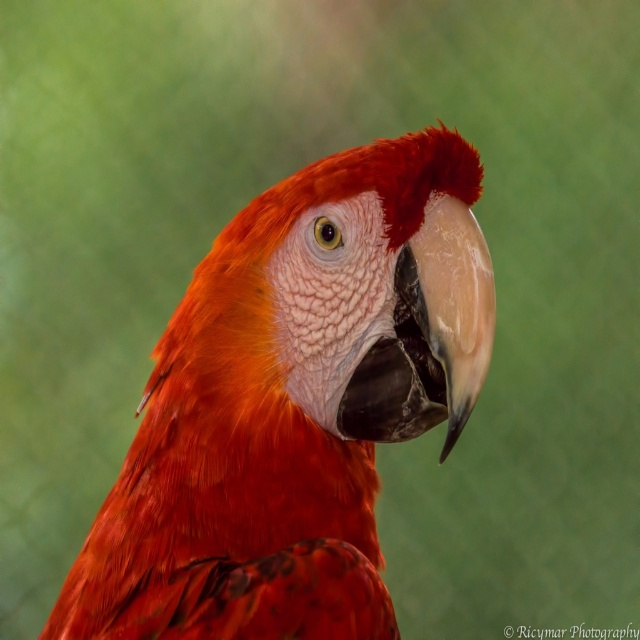Parrot: (36, 119, 497, 639)
